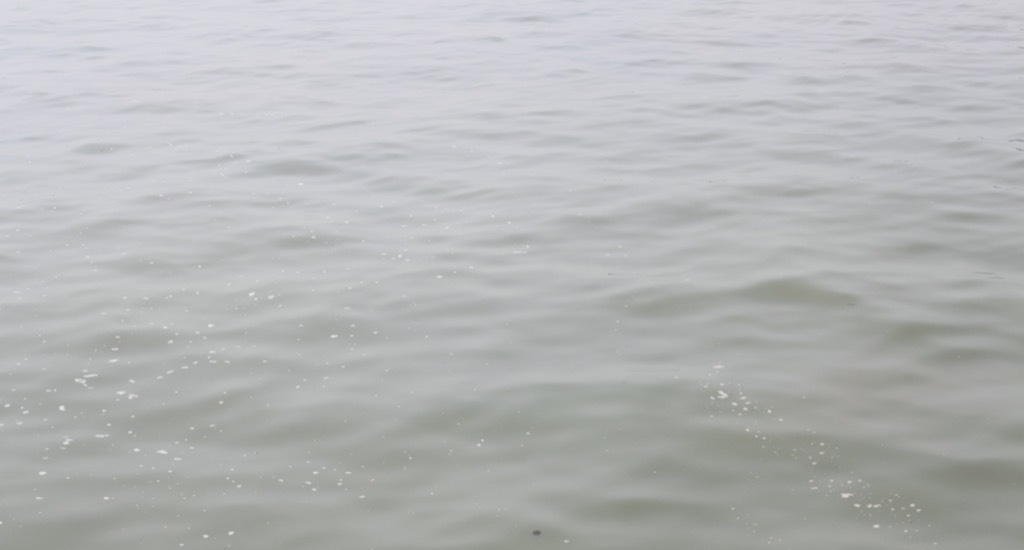organic: (521, 518, 555, 547)
